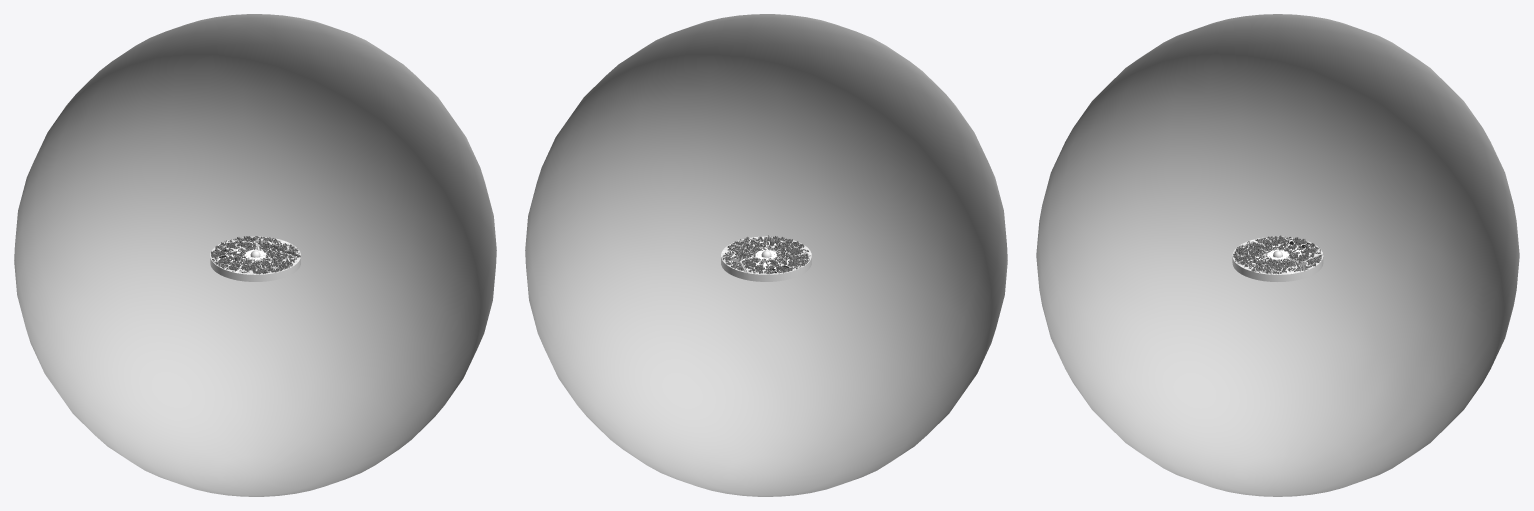
Rendered from neo-tokyo-diorama.glb.
The picture shows the model from 3 angles, left to right: view 1: azimuth 30°, elevation 25°; view 2: azimuth 150°, elevation 25°; view 3: azimuth 270°, elevation 25°; orthographic projection.
Visible parts, largest first — view 1: FONDO, EDIFICIOS1, SUELO1, BASE; view 2: FONDO, EDIFICIOS1, SUELO1, BASE; view 3: FONDO, EDIFICIOS1, SUELO1, BASE.
Part boxes in pixels (box(x1,y1,x2,y2)): FONDO: box(14, 14, 496, 496); EDIFICIOS1: box(211, 236, 300, 274); SUELO1: box(210, 236, 300, 274); BASE: box(210, 258, 300, 281); FONDO: box(525, 14, 1007, 496); EDIFICIOS1: box(722, 235, 810, 274); SUELO1: box(721, 236, 811, 274); BASE: box(721, 258, 811, 281); FONDO: box(1036, 14, 1519, 496); EDIFICIOS1: box(1233, 235, 1322, 274); SUELO1: box(1232, 236, 1323, 274); BASE: box(1232, 256, 1323, 281).
Size of the model in its own units: 1200 by 1200 by 1200.
Materials: 11 (1 with a texture image).
